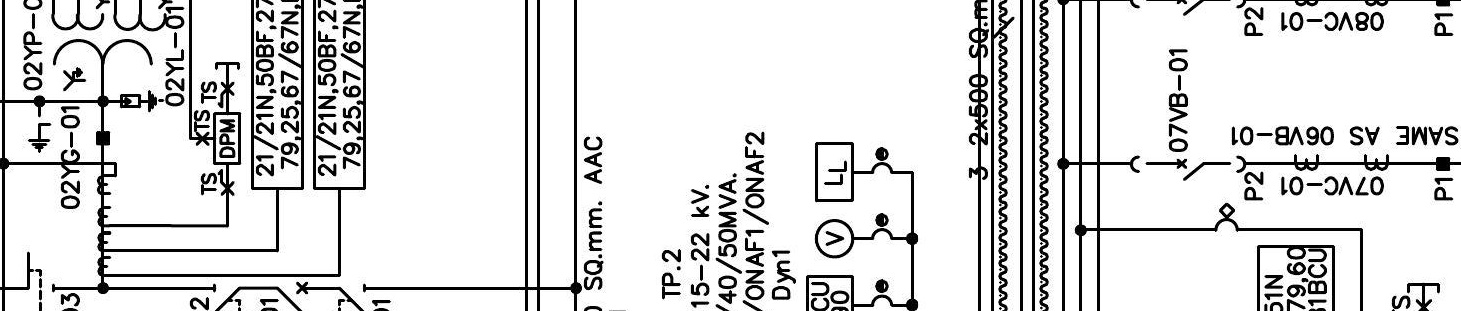115_gs: (27, 113, 52, 154)
115_la: (119, 89, 165, 114)
22_breaker: (1129, 154, 1246, 181)
DPM: (213, 113, 241, 166)
LL: (815, 142, 854, 202)
v_m: (814, 218, 854, 259)
